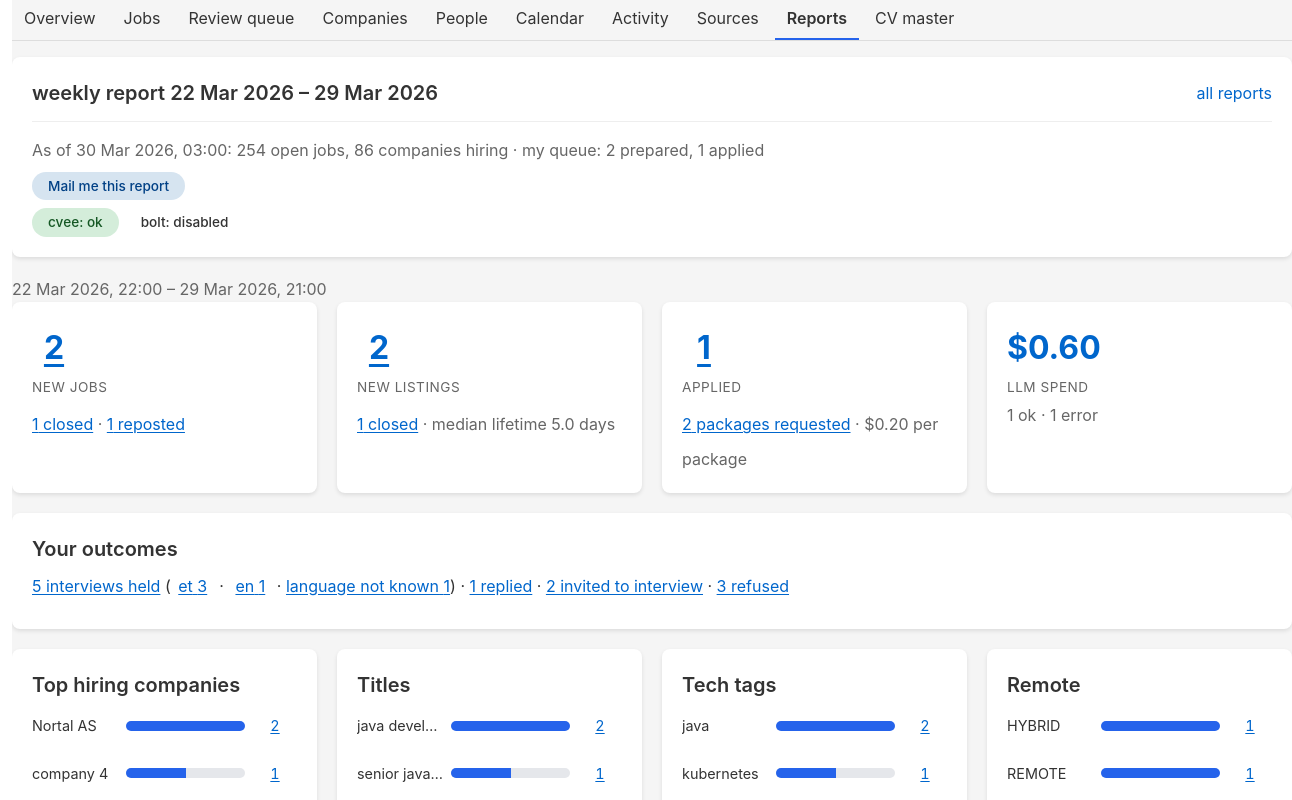
MasiReportDetail › mails the weekly digest to the one who asks, and says so
Click the button "Mail me this report" at (109, 186), box [32, 172, 185, 200]
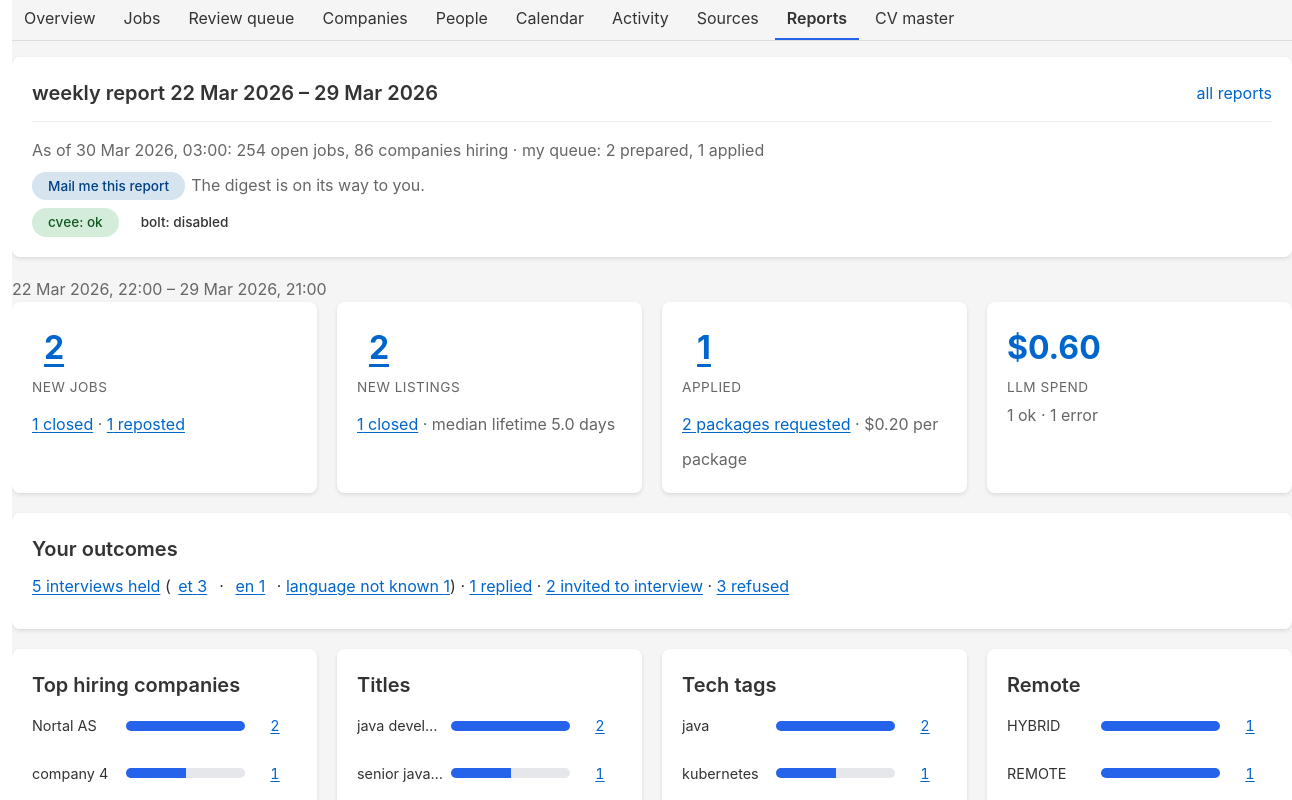
Result: the text "The digest is on its way to you." is shown at [191, 173, 425, 199]
